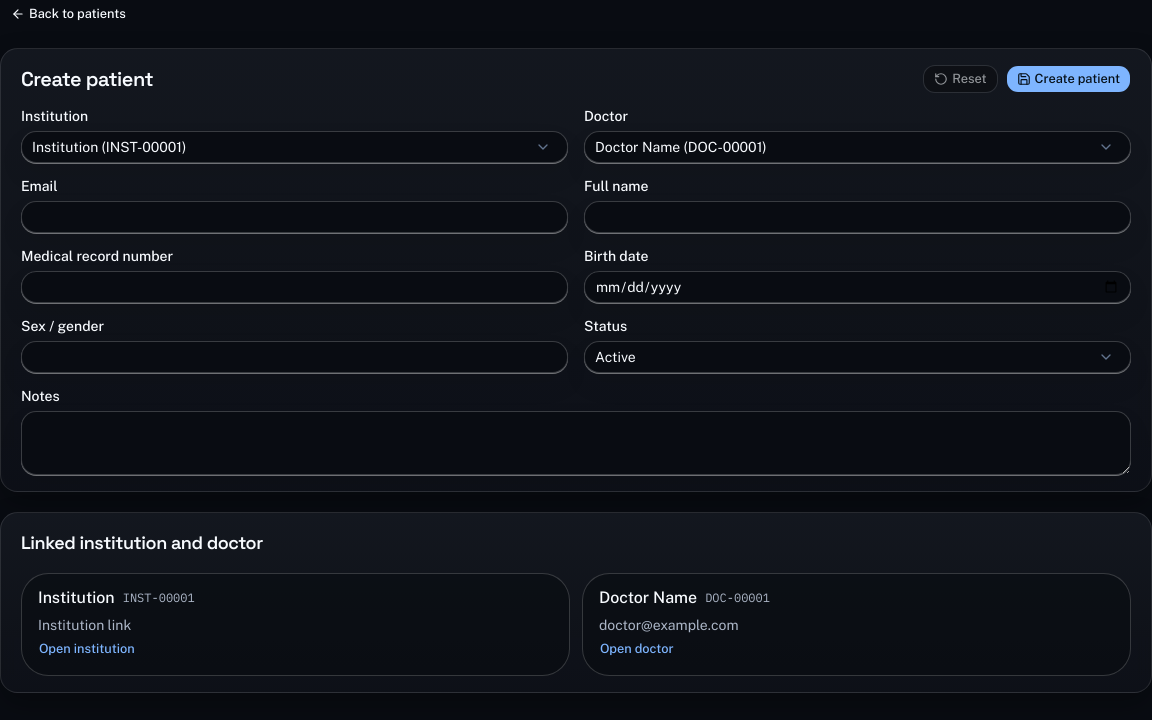
Scenario: PatientWorkbench portal credentials › rejects a single-word patient name before creating the patient
Type "patient@example.com" into the field labelled "Email" at (294, 217), box [21, 201, 568, 233]
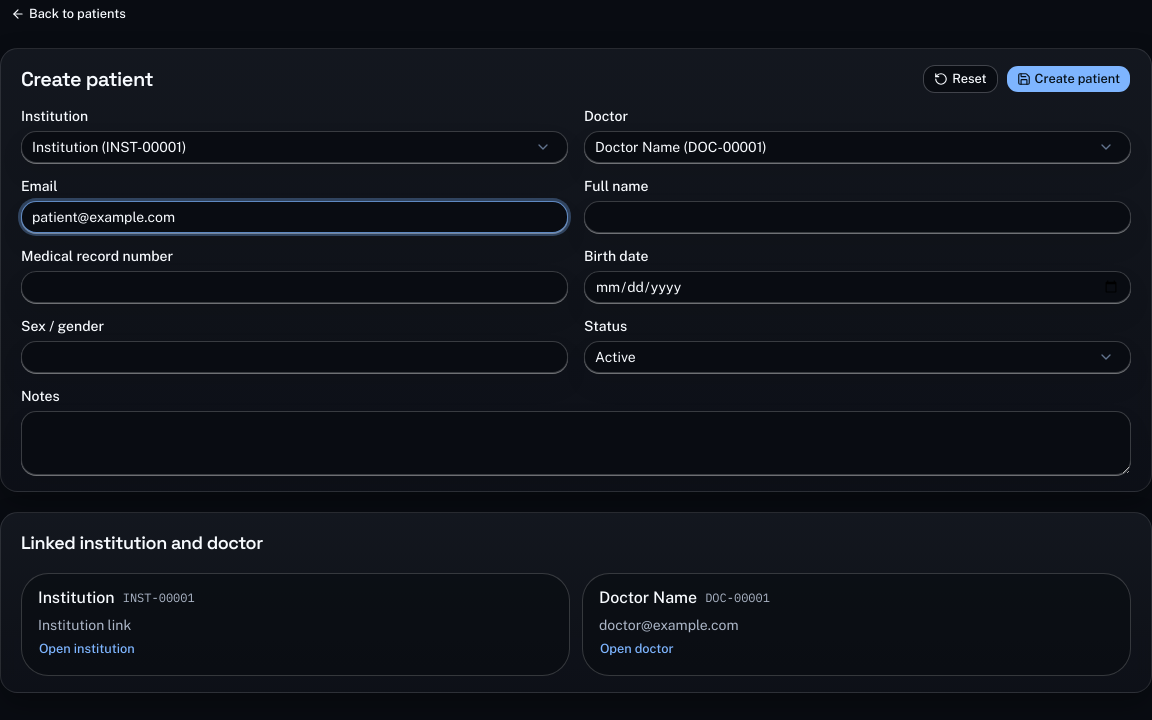
Type "Madonna" into the field labelled "Full name" at (858, 217), box [584, 201, 1131, 233]
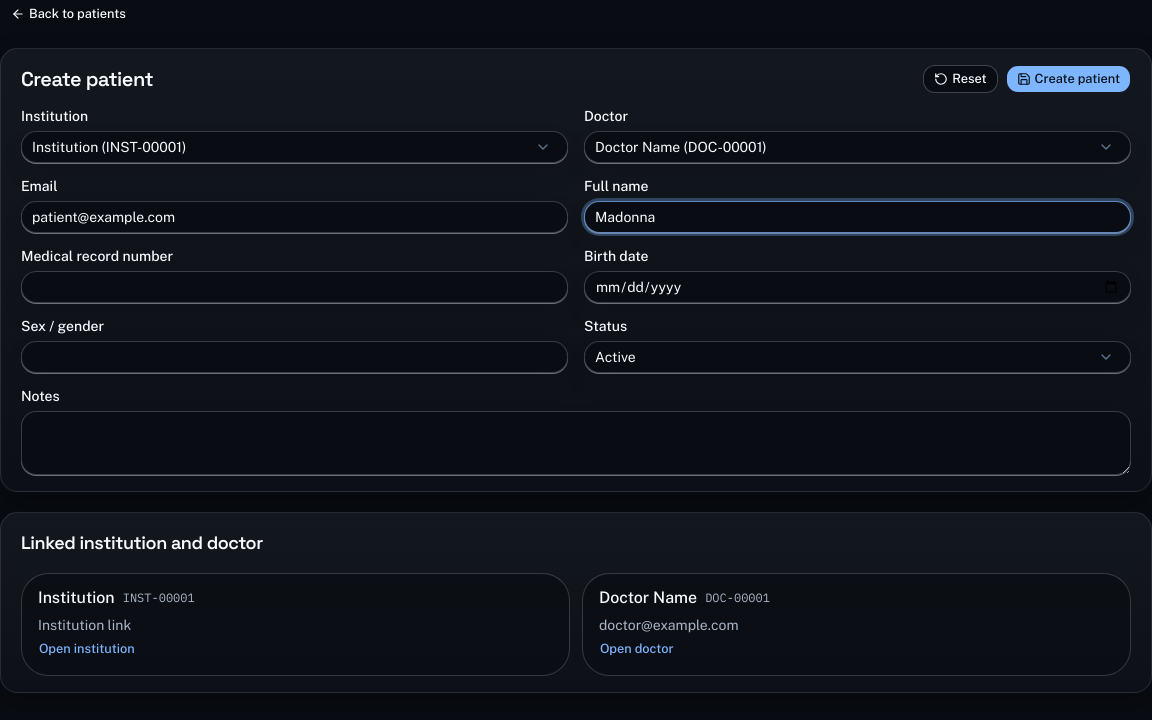
Click the button "Create patient" at (1068, 79), box [1006, 65, 1131, 93]
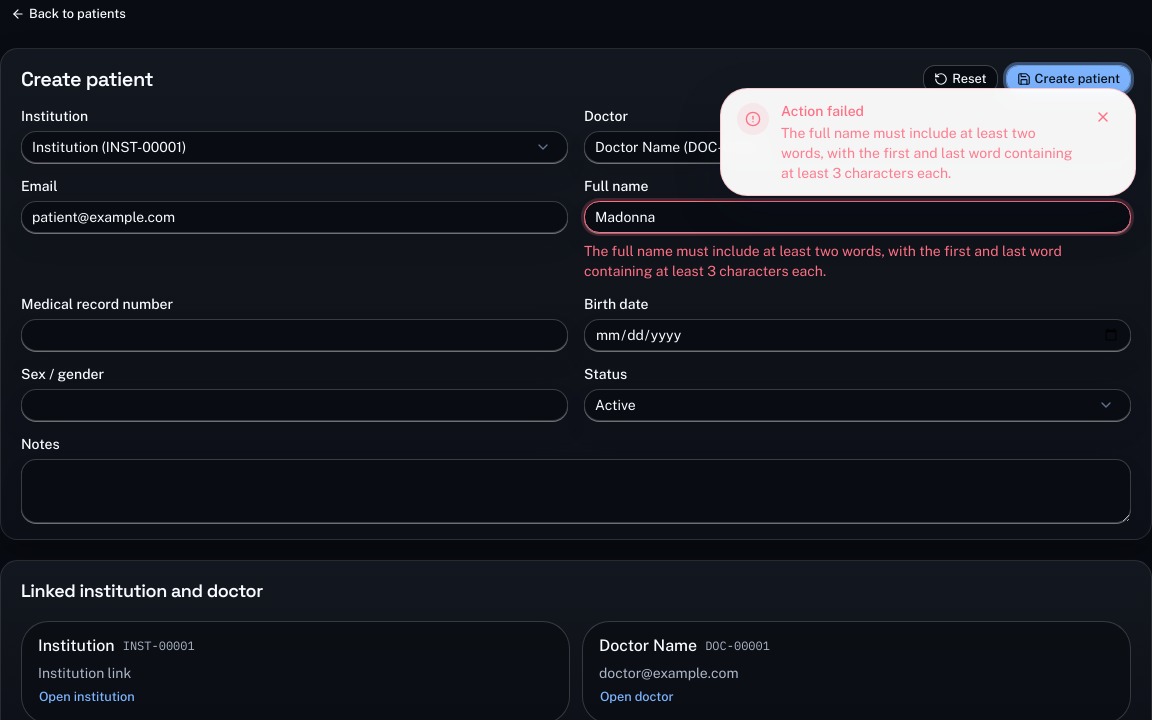
Now the text "The full name must include at least two words, with the first and last word containing at least 3 characters each." is shown 2 times, box [781, 123, 1075, 183]; [584, 241, 1131, 281]
